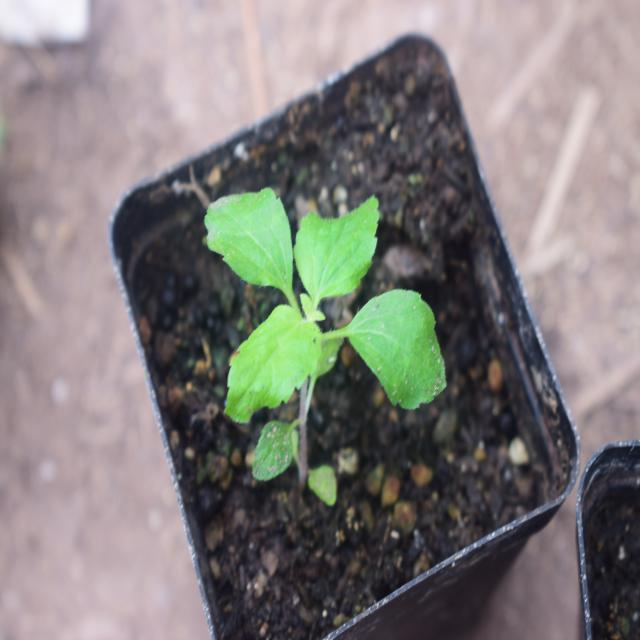billygoat_weed: (200, 174, 436, 448)
